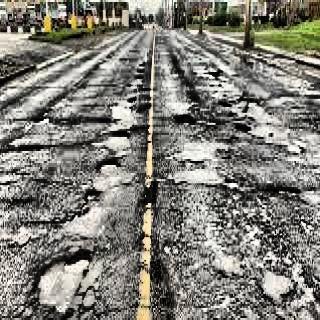pothole: (35, 244, 91, 320), (124, 57, 154, 109), (266, 180, 304, 200), (17, 138, 47, 158), (97, 155, 120, 175), (172, 111, 199, 128), (96, 112, 113, 126), (112, 128, 131, 140), (234, 123, 251, 135), (86, 187, 99, 202)
